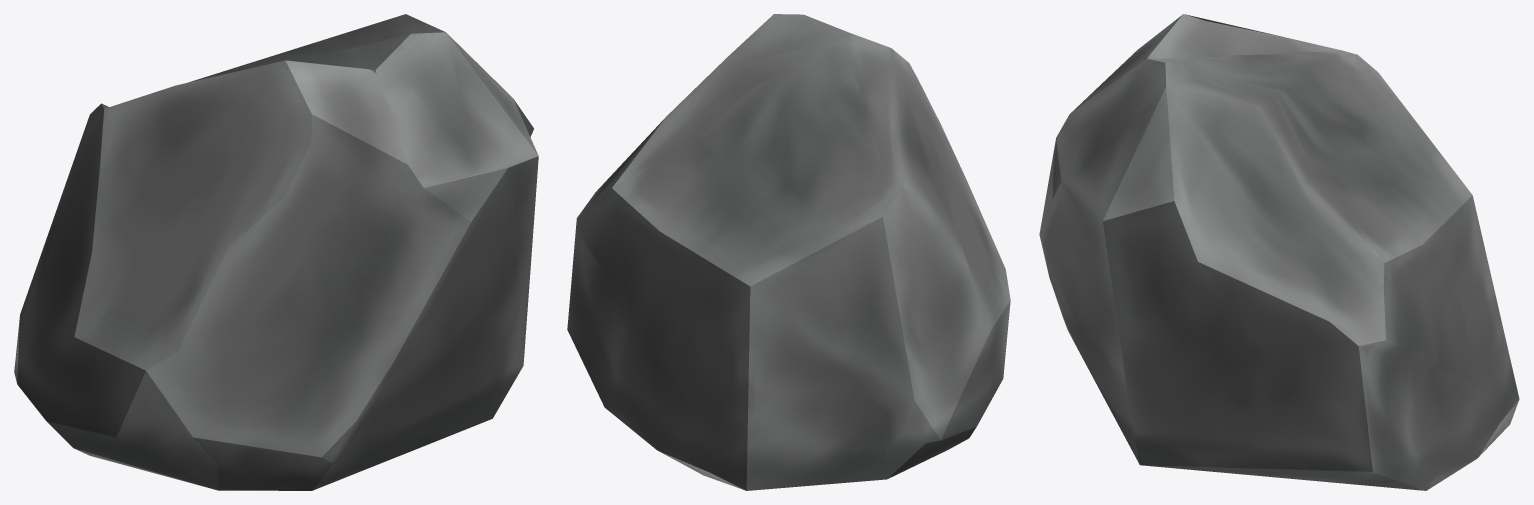
Rendered from ExplodingStone.fbx.
3 views of the same model, side by side, from view 1: azimuth 30°, elevation 25°; view 2: azimuth 150°, elevation 25°; view 3: azimuth 270°, elevation 25° (orthographic). The views are drawn at different scales.
Parts seen in each view (by area): view 1: Sphere.002; view 2: Sphere.002; view 3: Sphere.002.
Boxes of the visible parts, x1=… form: Sphere.002: x1=14, y1=14, x2=538, y2=490; Sphere.002: x1=567, y1=14, x2=1010, y2=490; Sphere.002: x1=1039, y1=14, x2=1519, y2=490.
Size of the model in its own units: 86.53 by 74.72 by 81.7.
